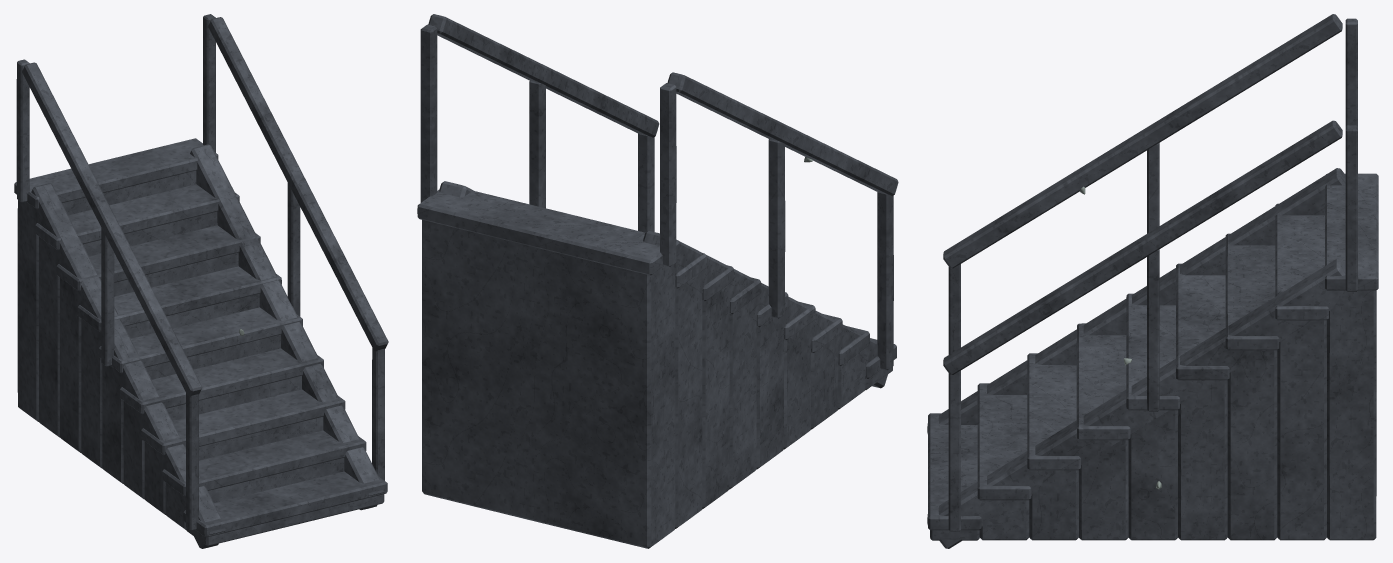
3 renders of one model, left to right at view 1: azimuth 30°, elevation 25°; view 2: azimuth 150°, elevation 25°; view 3: azimuth 270°, elevation 25°, orthographic. The views are drawn at different scales.
Visible parts, largest first — view 1: granite-ashlar; view 2: granite-ashlar; view 3: granite-ashlar.
Boxes of the visible parts, x1=… form: granite-ashlar: x1=14, y1=14, x2=388, y2=548; granite-ashlar: x1=417, y1=14, x2=898, y2=548; granite-ashlar: x1=927, y1=14, x2=1378, y2=548.
Bounding box in the file's own units: 1.3 × 2.29 × 2.18.
Materials: 2 (1 with a texture image).
